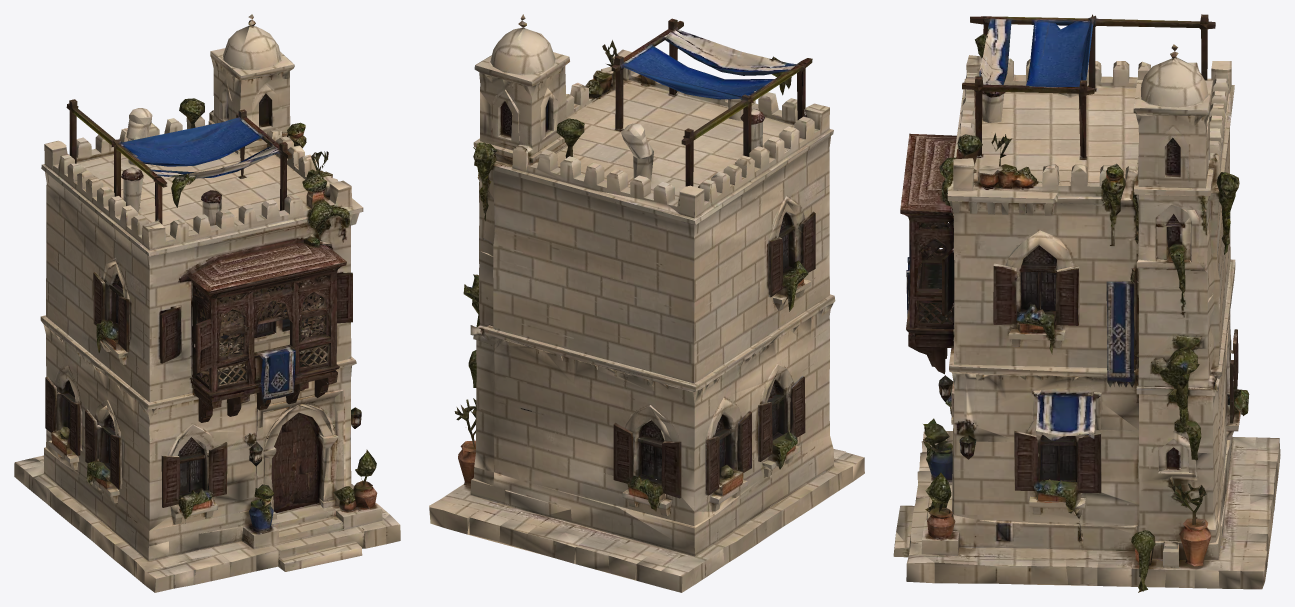
Rendered from house-5-lod.glb.
3 views of the same model, side by side, from view 1: azimuth 30°, elevation 25°; view 2: azimuth 150°, elevation 25°; view 3: azimuth 270°, elevation 25° (orthographic). The views are drawn at different scales.
Size of the model in its own units: 5.96 by 9.85 by 6.62.
1 material, 1 textured.
